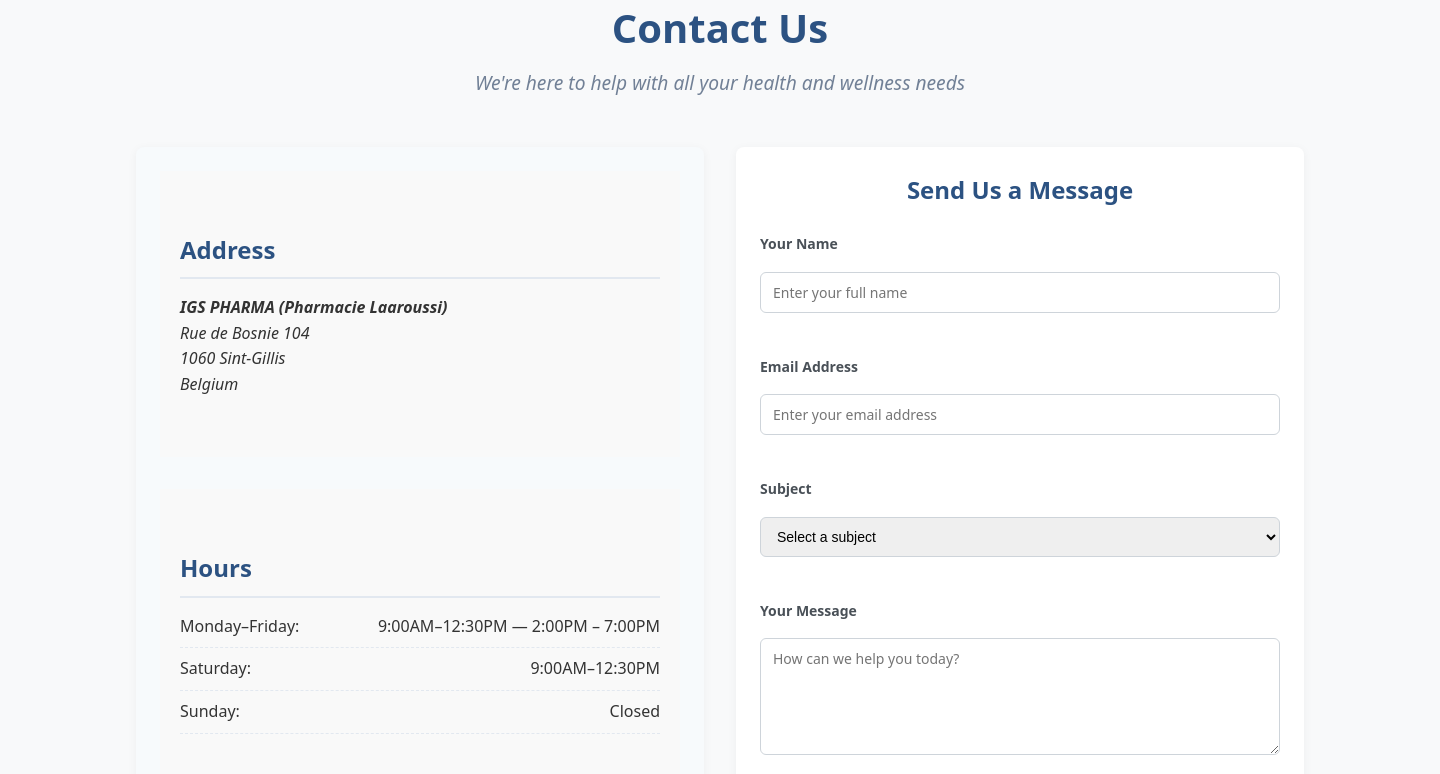
Scenario: ContactUs Component › shows error message when form submission fails
Note: Fill out the form
Type "Test User" into the field labelled "Your Name" at (1020, 292), box left=760, top=272, right=1280, bottom=312
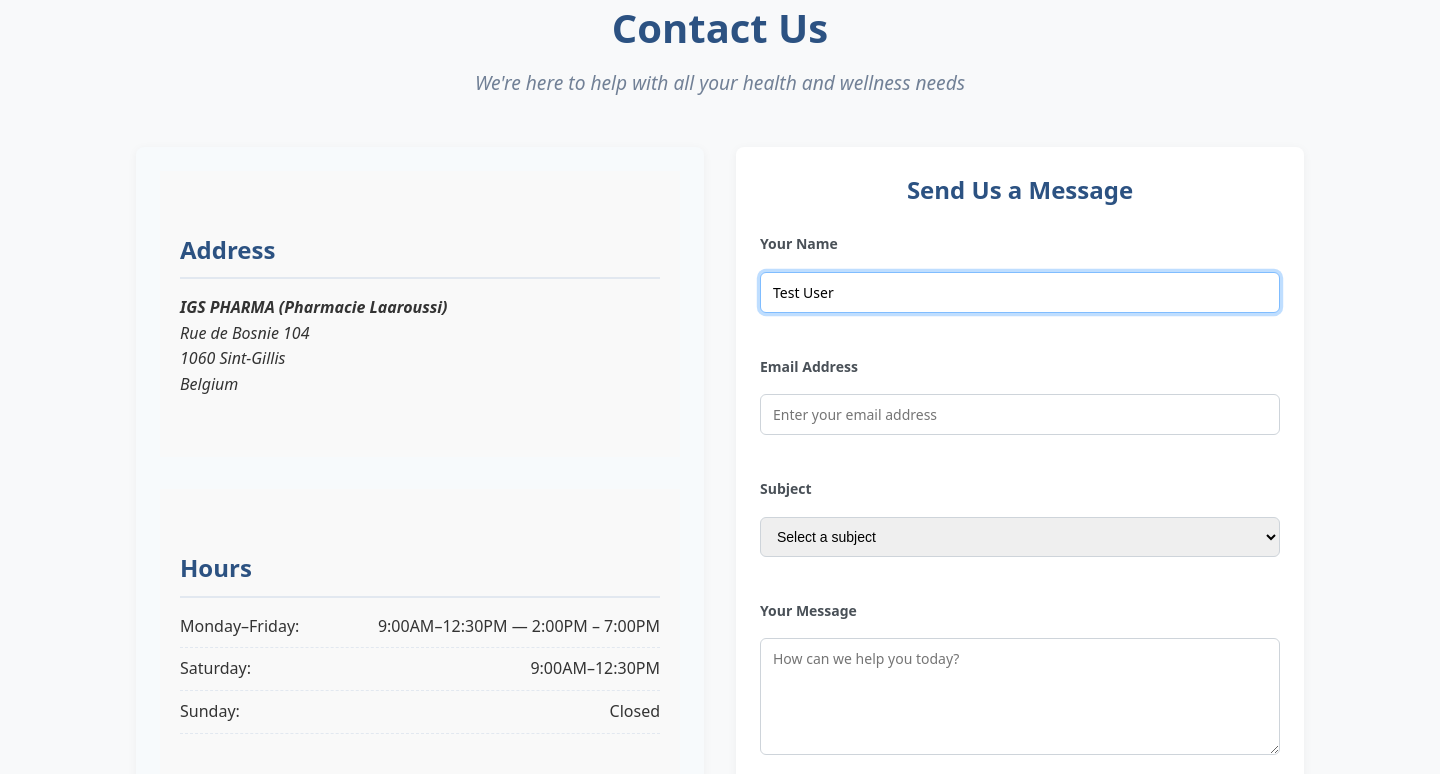
Type "test@example.com" into the field labelled "Email Address" at (1020, 415), box left=760, top=394, right=1280, bottom=435
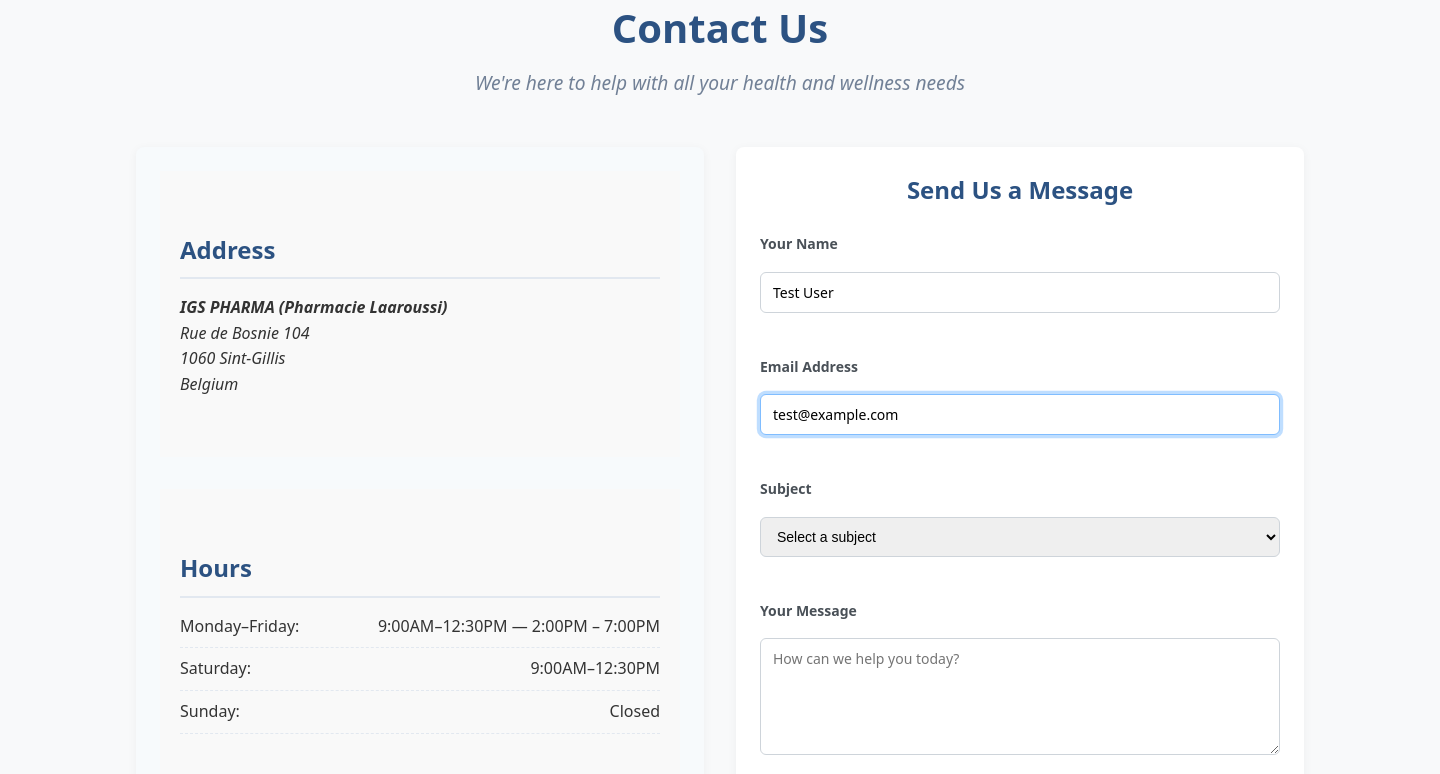
Select "General Inquiry" in the dropdown labelled "Subject" at (1020, 537), box left=760, top=517, right=1280, bottom=557
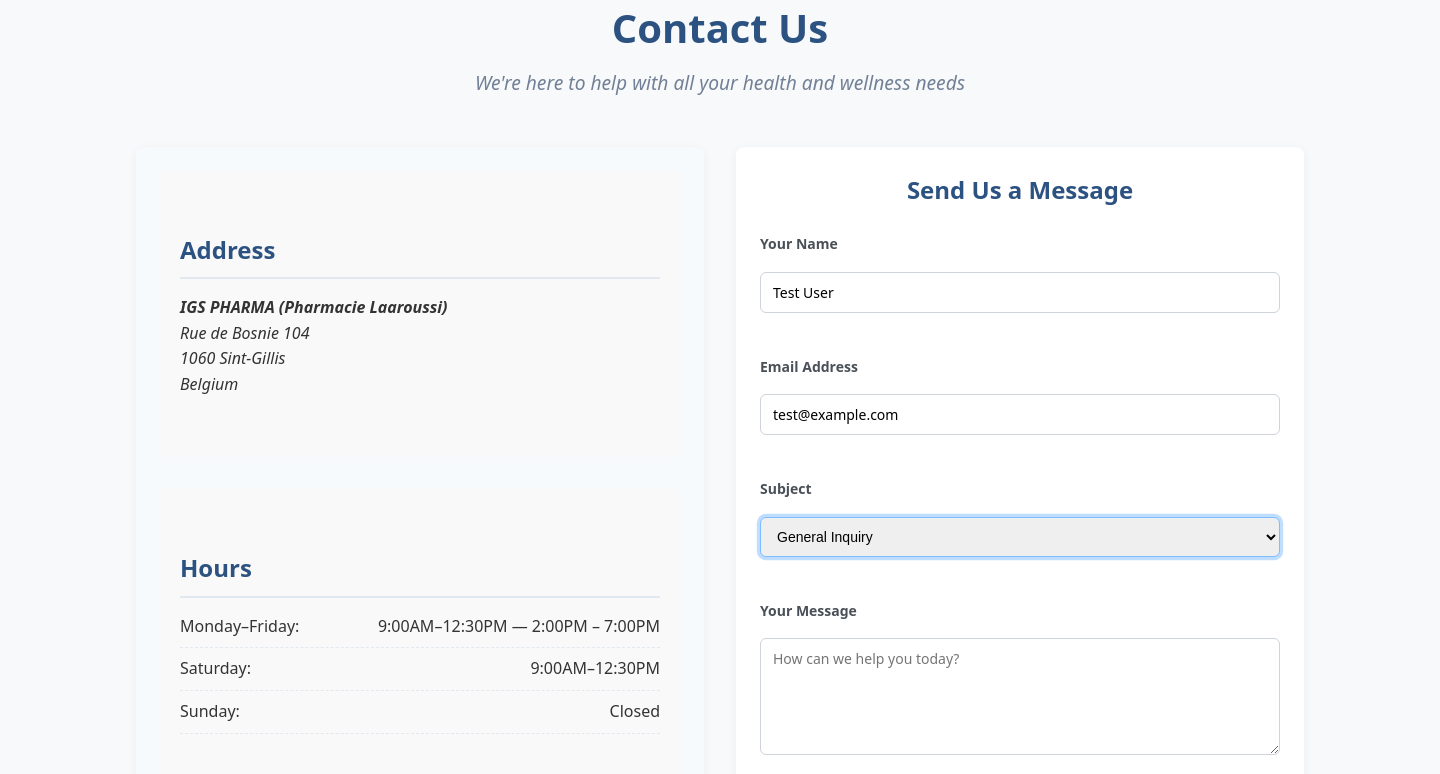
Type "This is a test message" into the text box labelled "Your Message" at (1020, 697), box left=760, top=638, right=1280, bottom=755
(page scrolled)
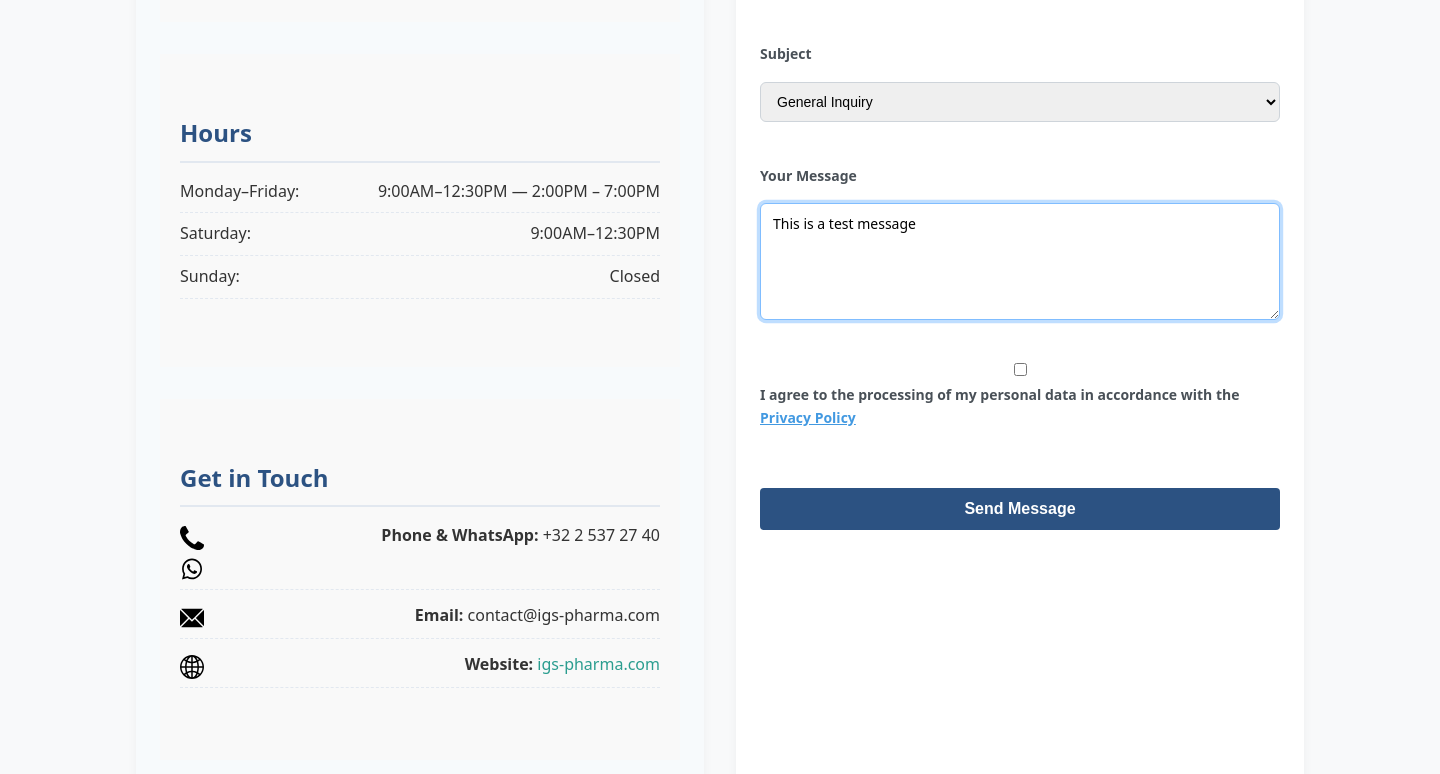
Note: Check the privacy policy checkbox
Click the checkbox labelled "I agree to the processing of my personal data" at (1020, 370), box left=1014, top=363, right=1026, bottom=376
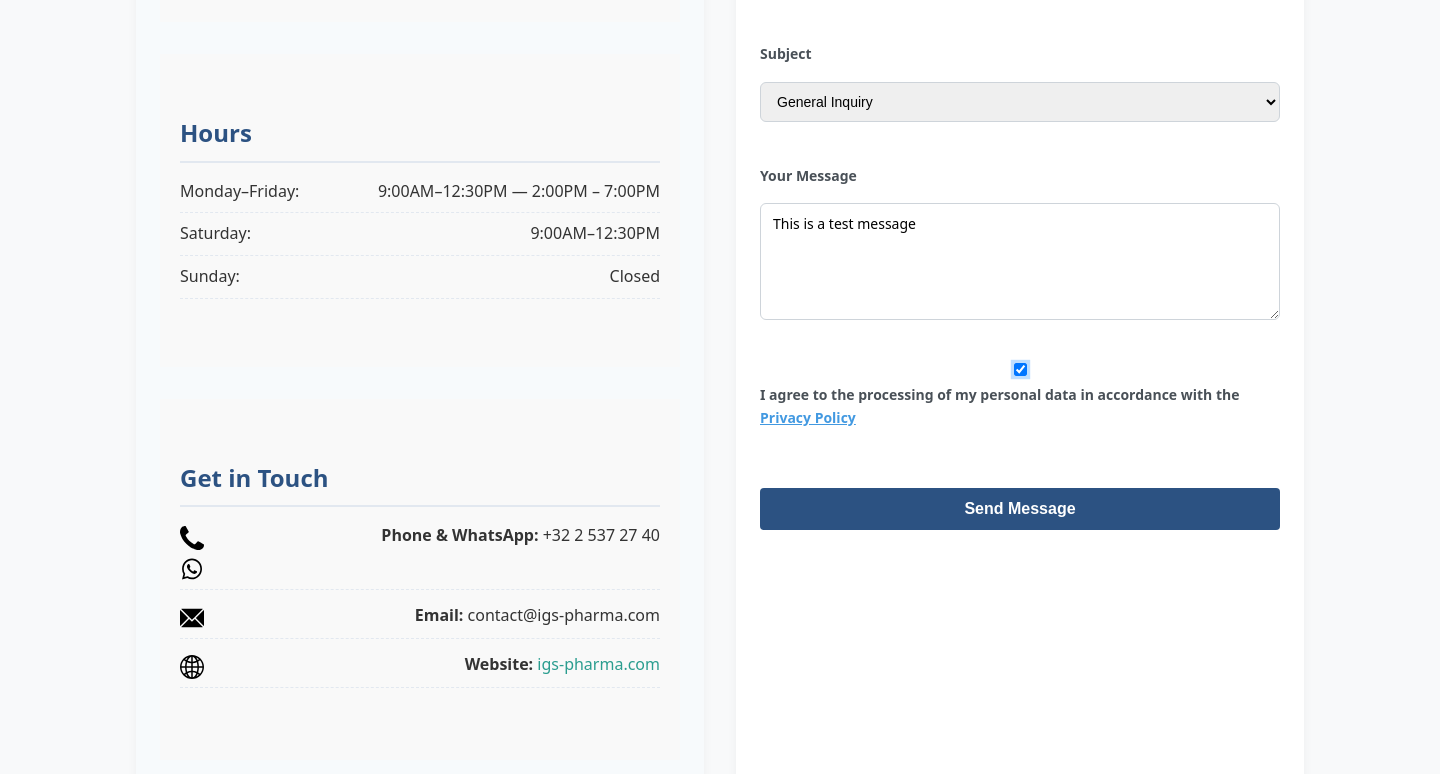
Note: Submit the form using fireEvent instead of userEvent for better control
Click the button "Send Message" at (1020, 509), box left=760, top=488, right=1280, bottom=530
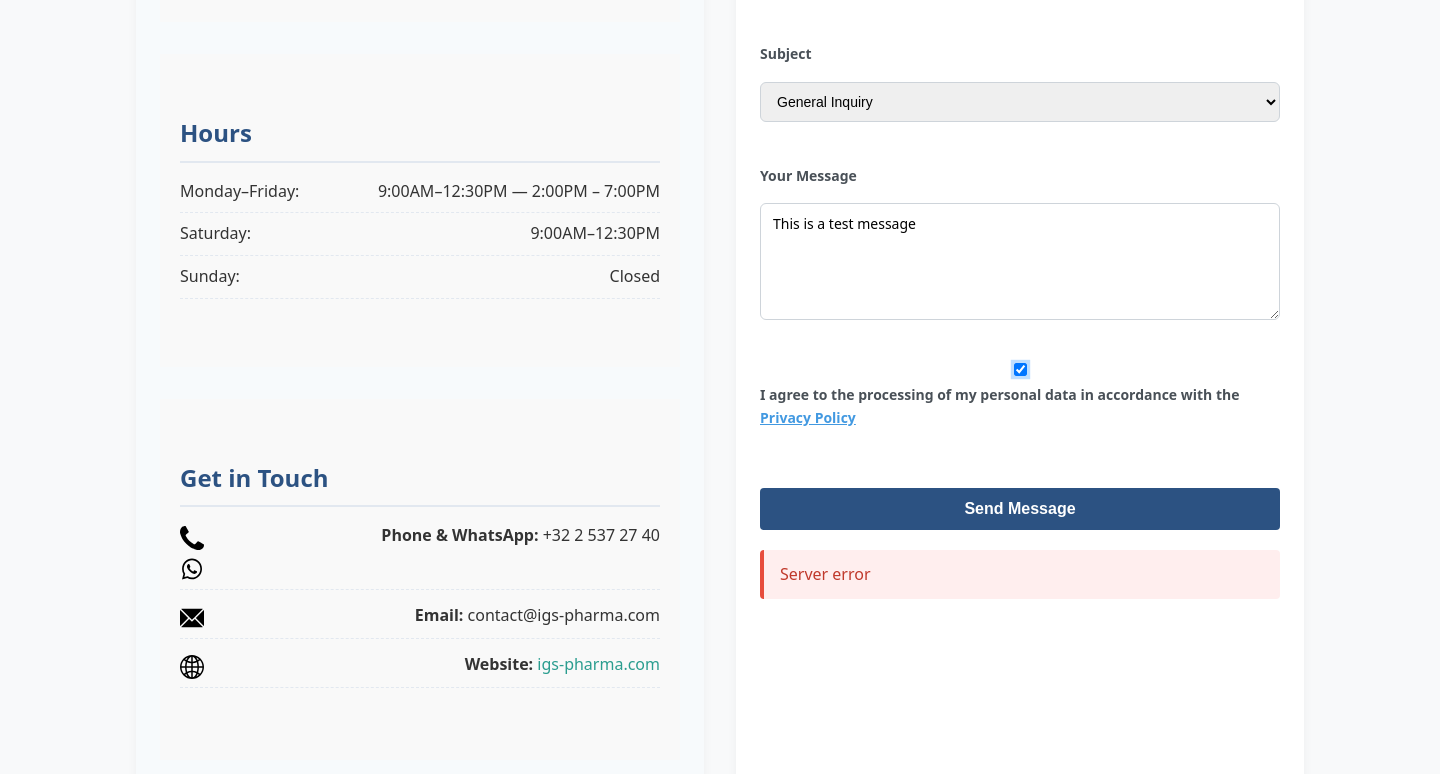
Result: the text "Server error" is shown at left=760, top=550, right=1280, bottom=599
